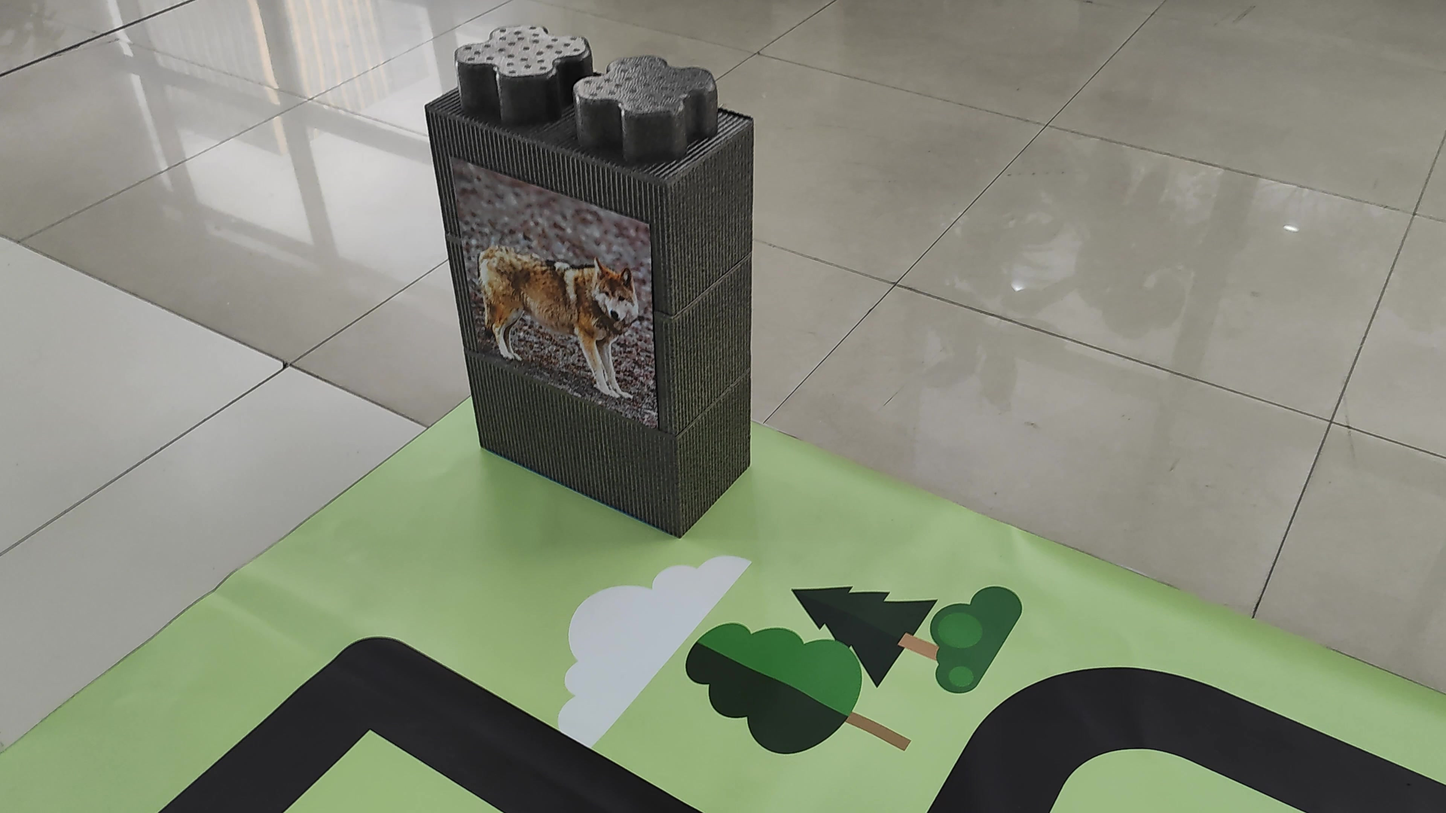wolf: (464, 217, 652, 399)
